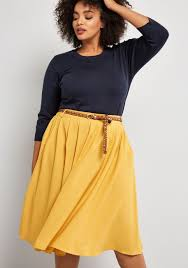C_skirt: (13, 106, 155, 261)
